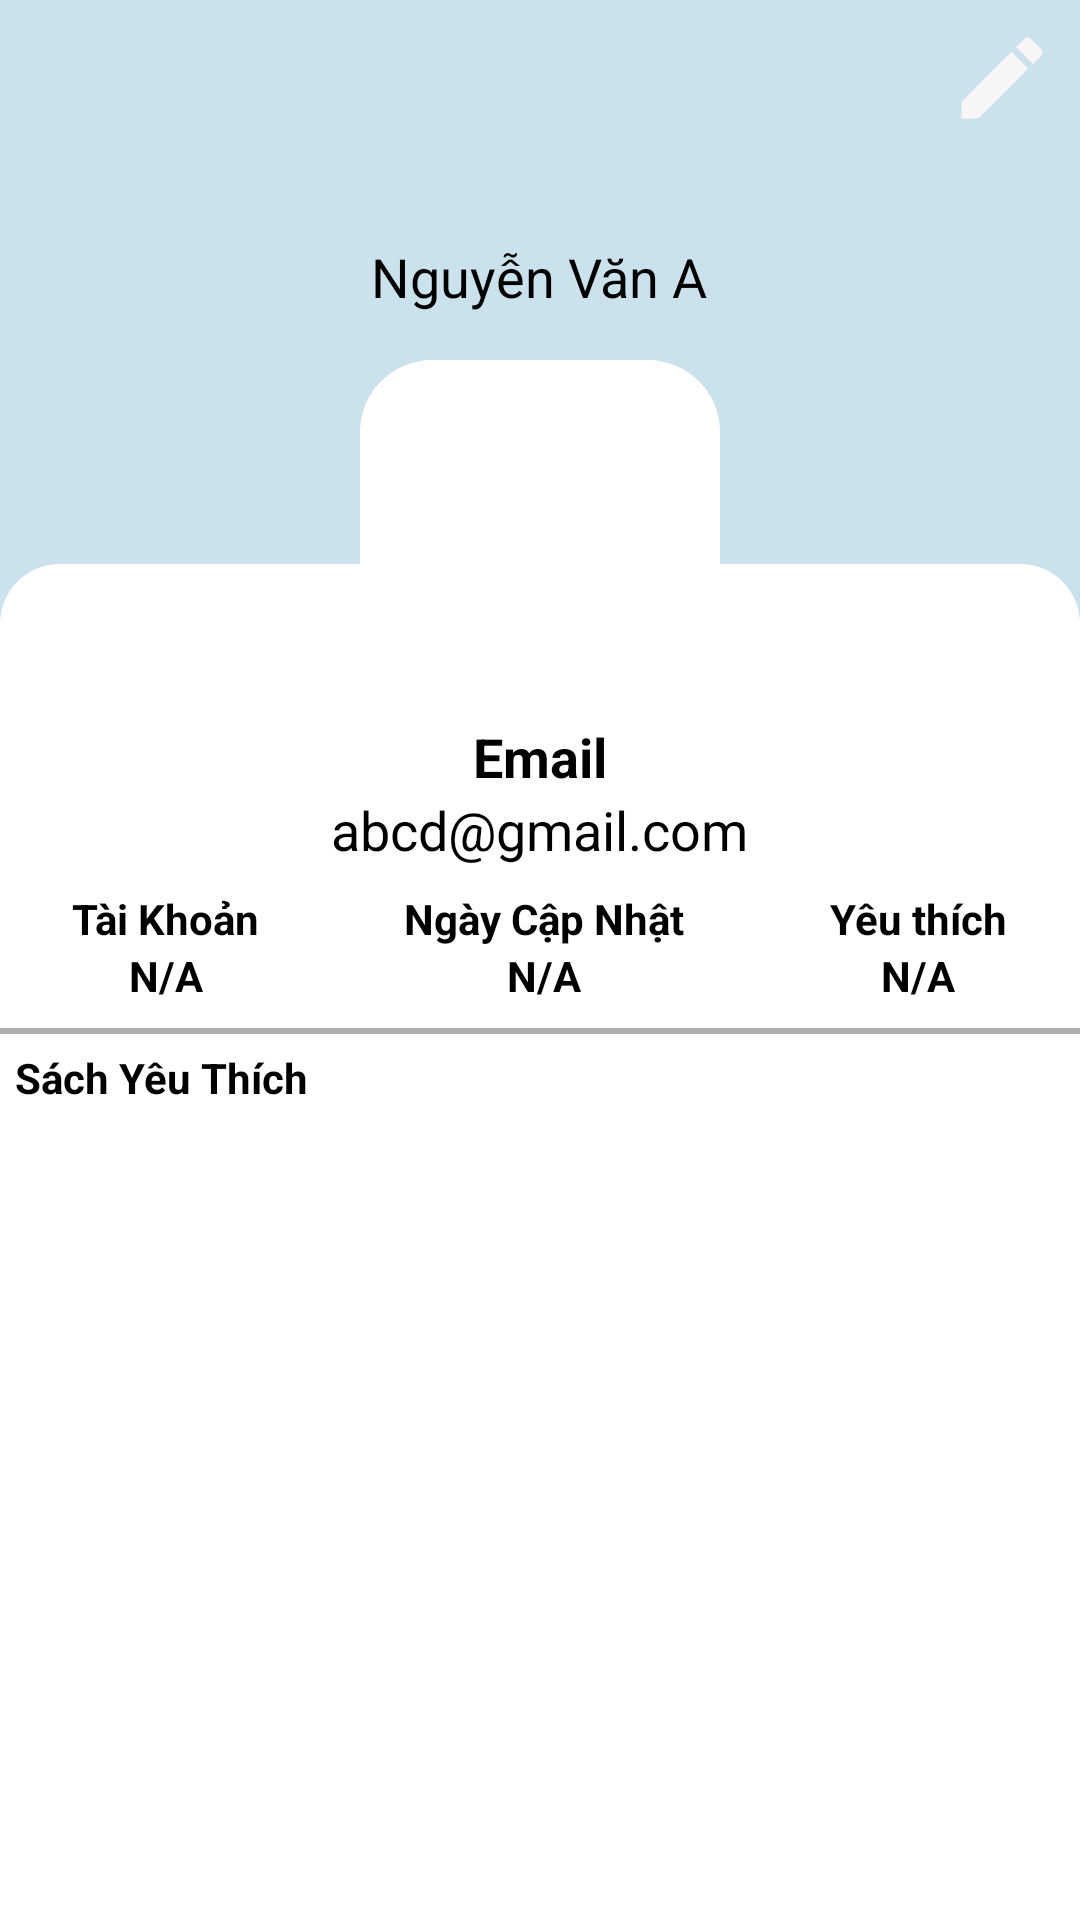

Named icons in this screenshot (1080 × 1920) and their bounding boxes, (x1, y1, x2, y2):
edit: (962, 38, 1042, 118)
